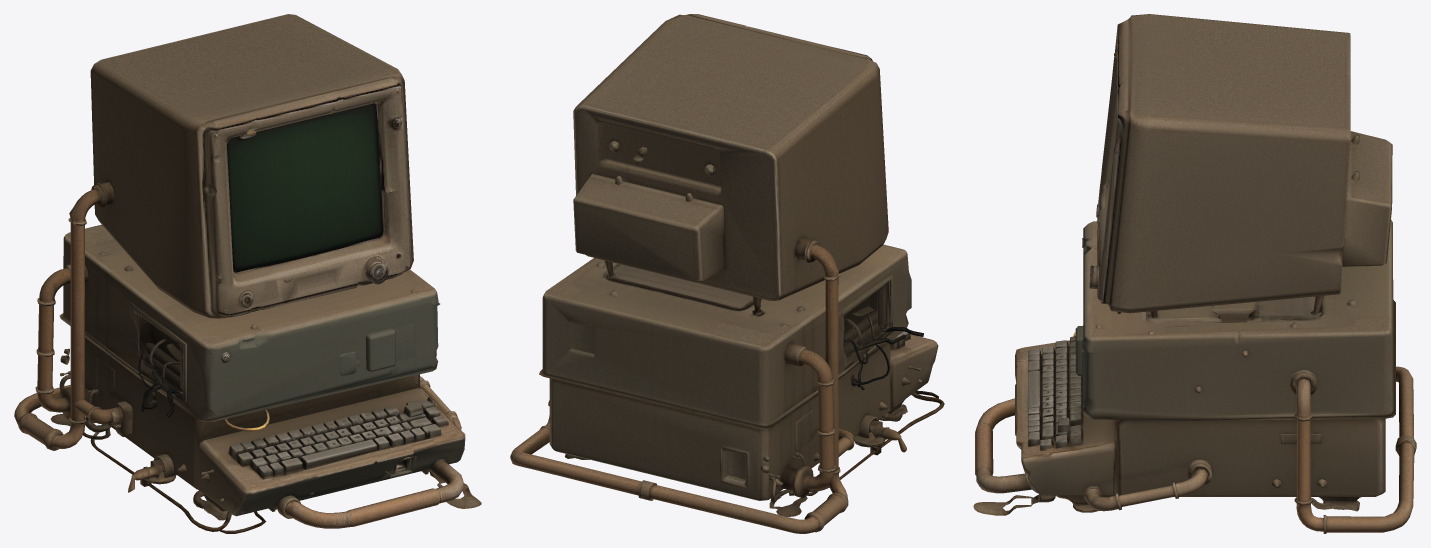
File: computer.glb
3 renders of one model, left to right at view 1: azimuth 30°, elevation 25°; view 2: azimuth 150°, elevation 25°; view 3: azimuth 270°, elevation 25°, orthographic. The views are drawn at different scales.
Parts seen in each view (by area): view 1: computer / mesh; view 2: computer / mesh; view 3: computer / mesh.
Boxes of the visible parts, x1,y1,x2,y2 form: computer / mesh: [14, 14, 481, 533]; computer / mesh: [510, 14, 944, 533]; computer / mesh: [973, 14, 1416, 533].
Bounding box in the file's own units: 0.579 × 0.674 × 0.68.
Materials: 1 (1 with a texture image).
